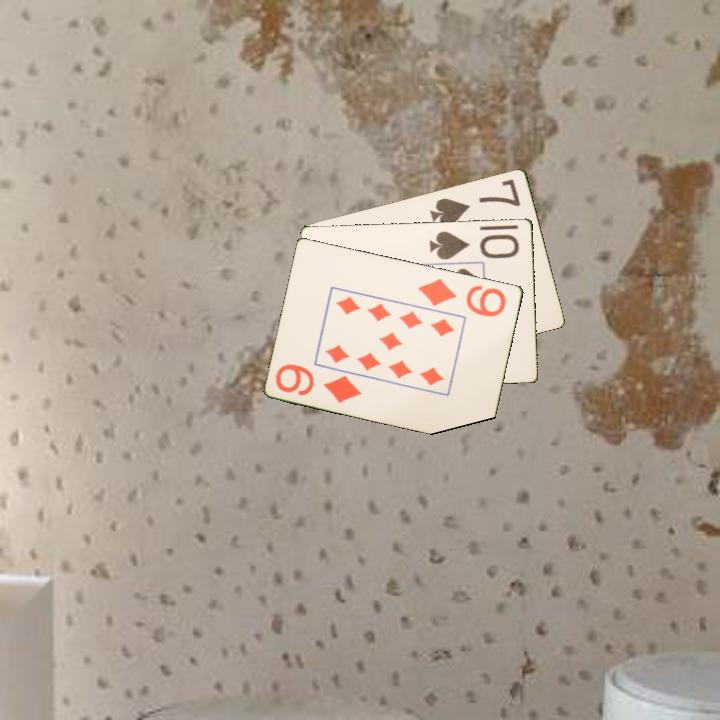10s: (426, 227, 523, 262)
7s: (426, 175, 524, 229)
9d: (414, 274, 509, 320), (272, 360, 365, 406)
